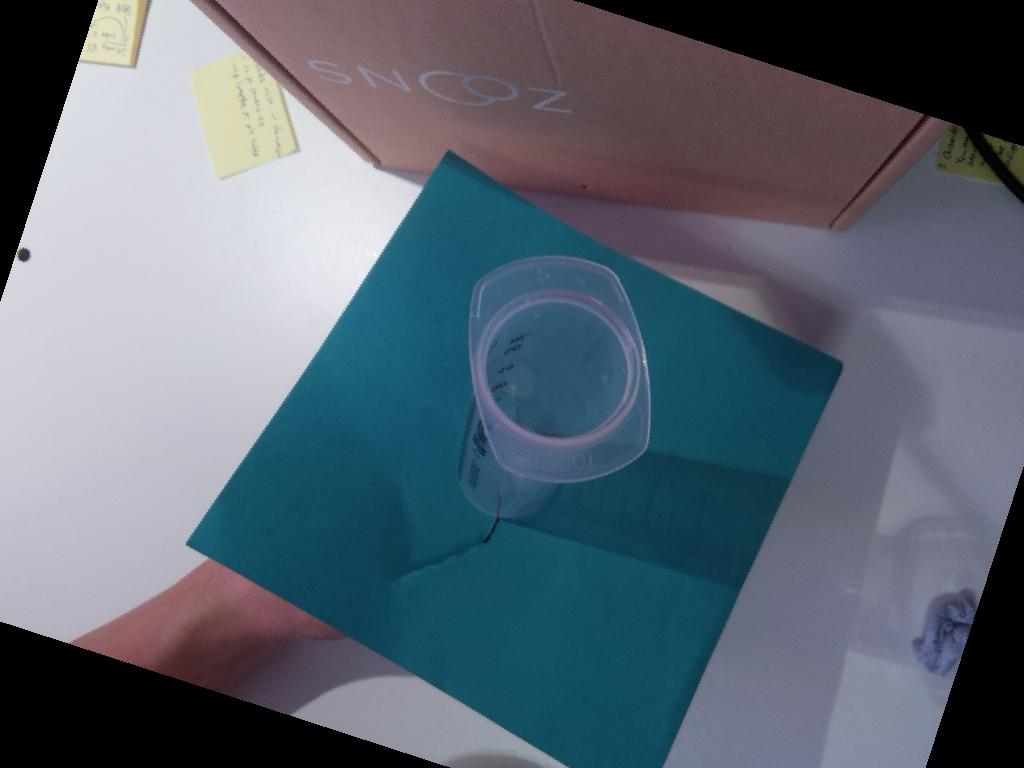clean: (466, 255, 653, 486)
